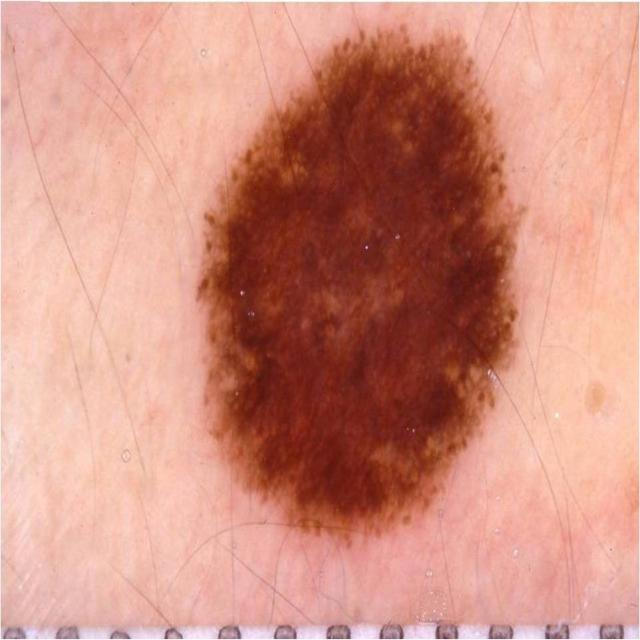Benign: (184, 22, 526, 559)
